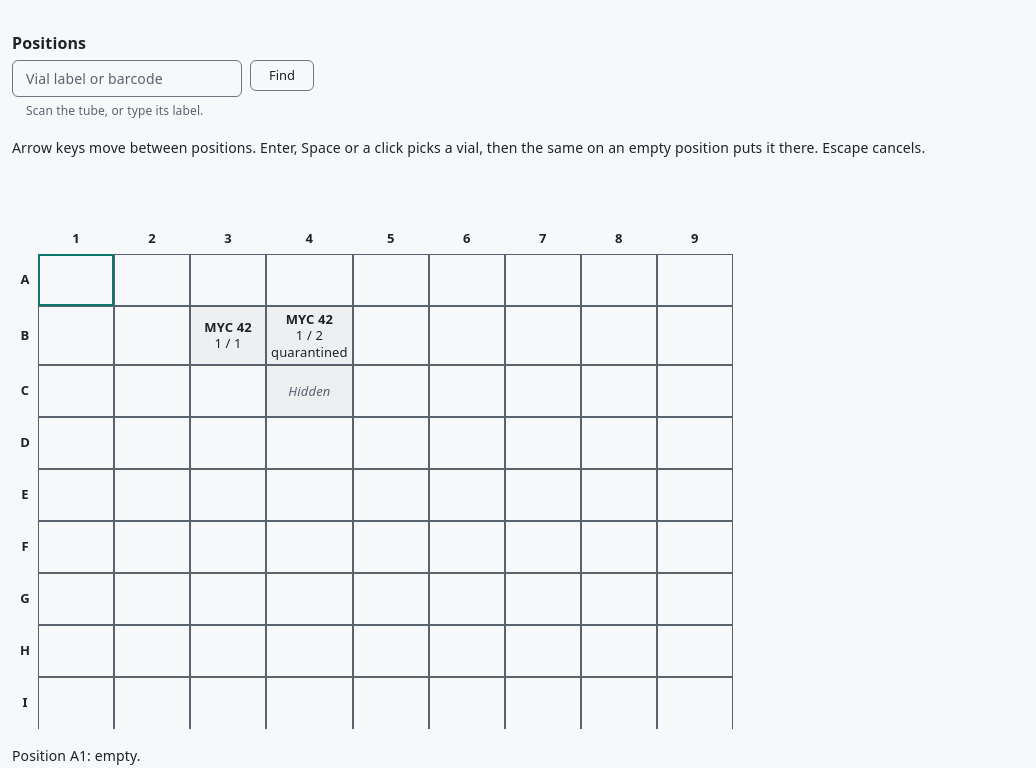
BoxPositions › sends one request while a move runs, whatever is pressed
The image size is (1036, 768).
Expected: the table named "Positions of Box 1" is shown, [12,222,733,729]
Press Arrowdown Arrowright Arrowright {Ente
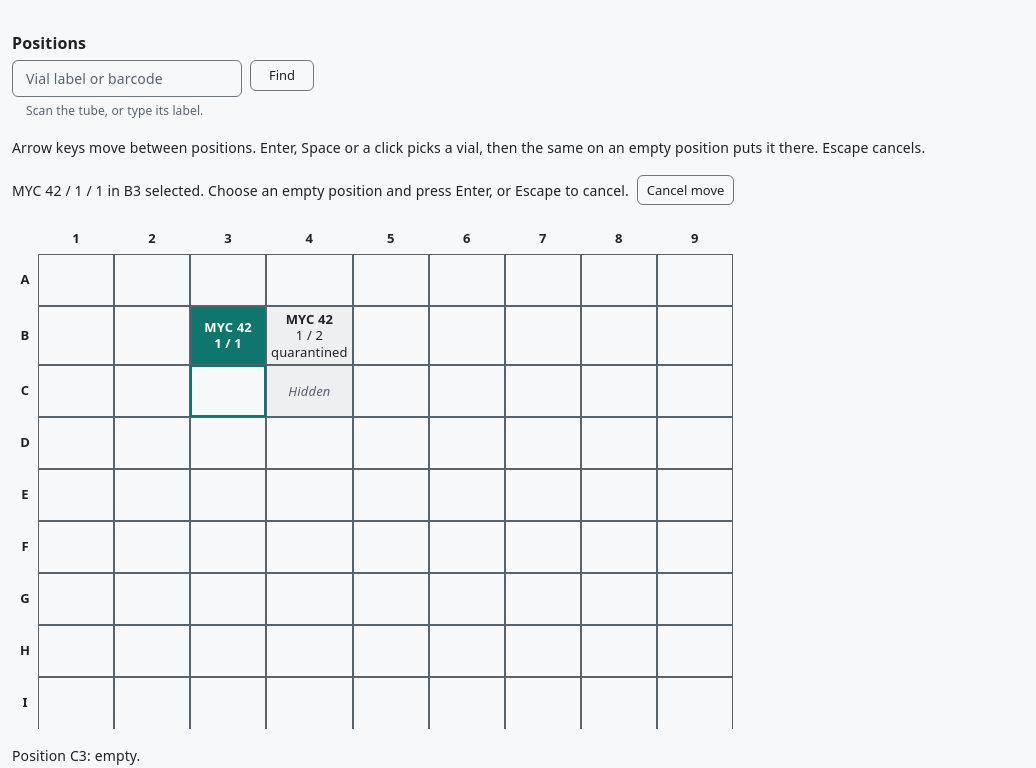
Press Enter Arrowright Enter
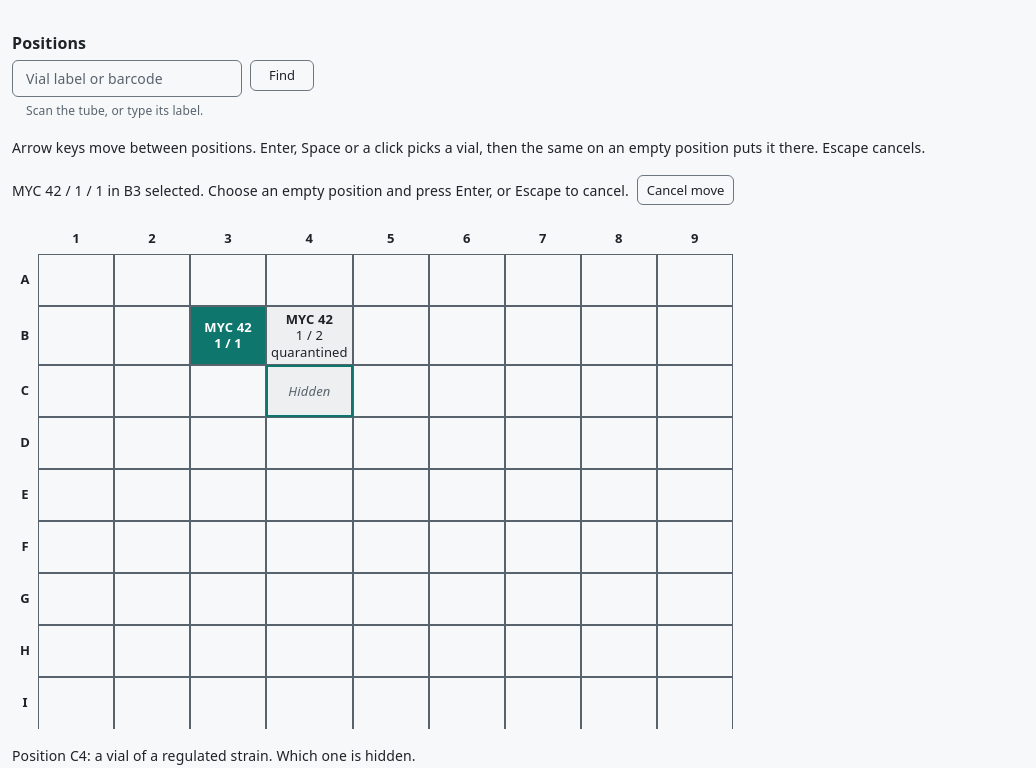
Click the cell named "E7, empty". click: (543, 495)
box: [505,469,581,521]
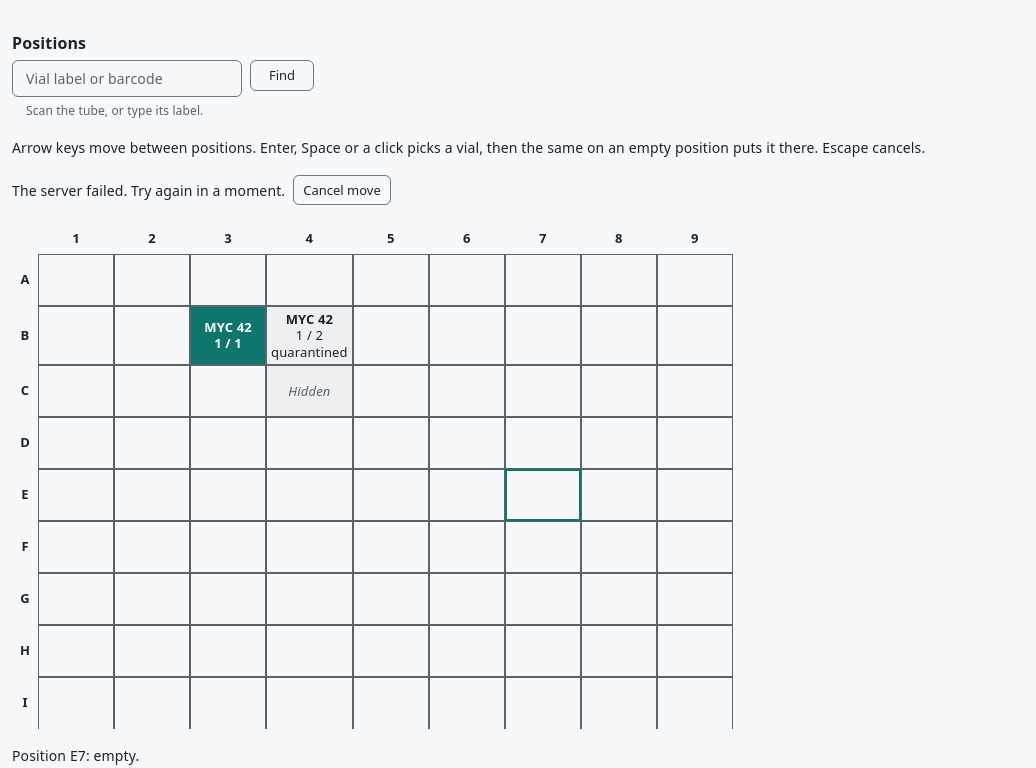
Expected: the text "The server failed. Try again in a moment." is shown, [12,180,285,200]
